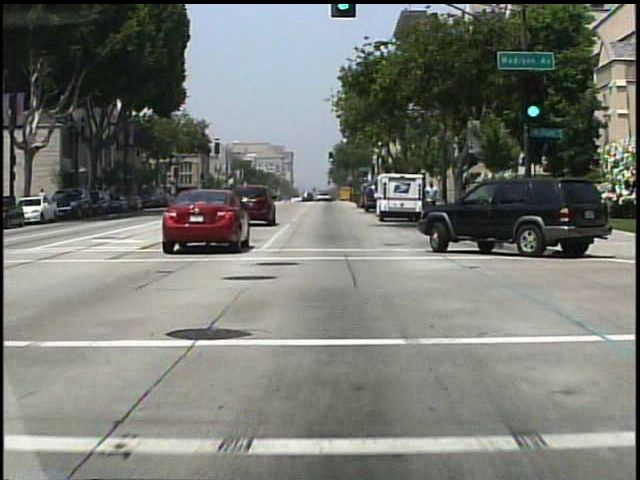person: (424, 181, 440, 221), (353, 185, 367, 213), (39, 187, 51, 212)
